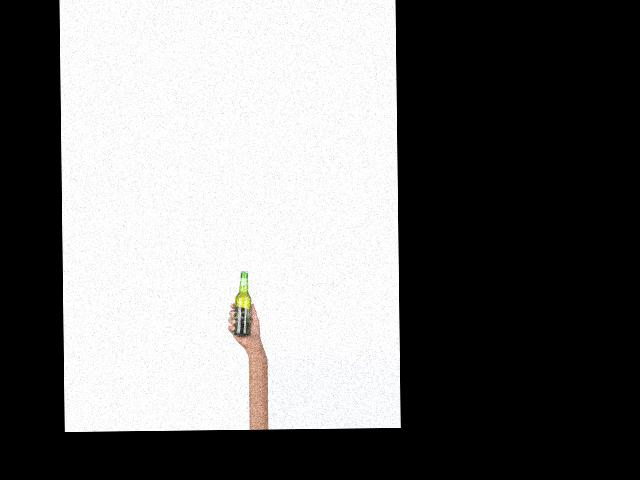beer: (234, 270, 252, 335)
